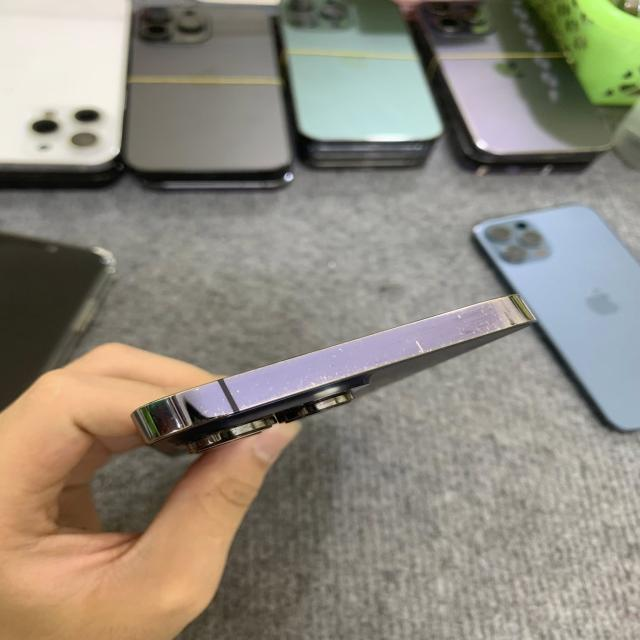scratch: (197, 364, 342, 420), (432, 295, 534, 347), (328, 334, 430, 372)
